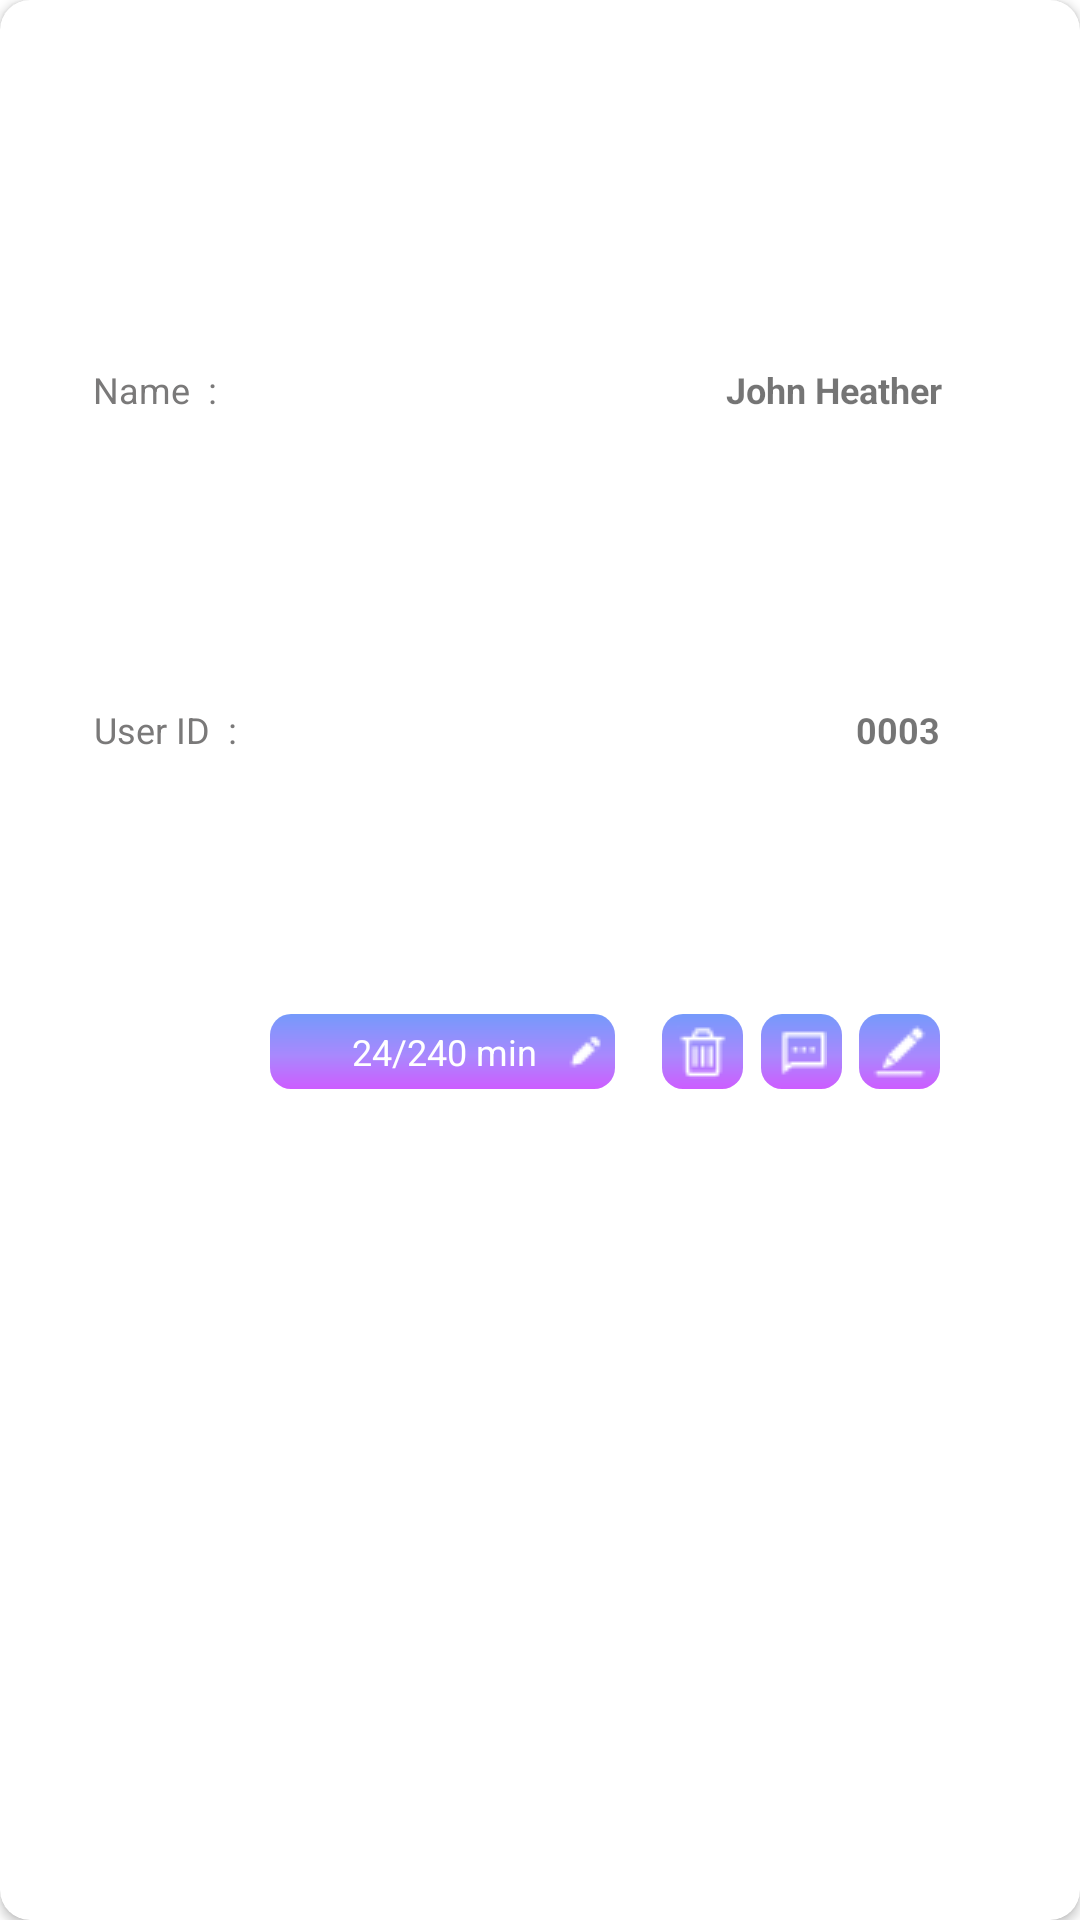

Point at icon controls on the screen. Image size 1080x1920, points as [x,y].
chat: [801,1051]
del: [702,1051]
mini pen: [585,1052]
pen: [899,1051]
